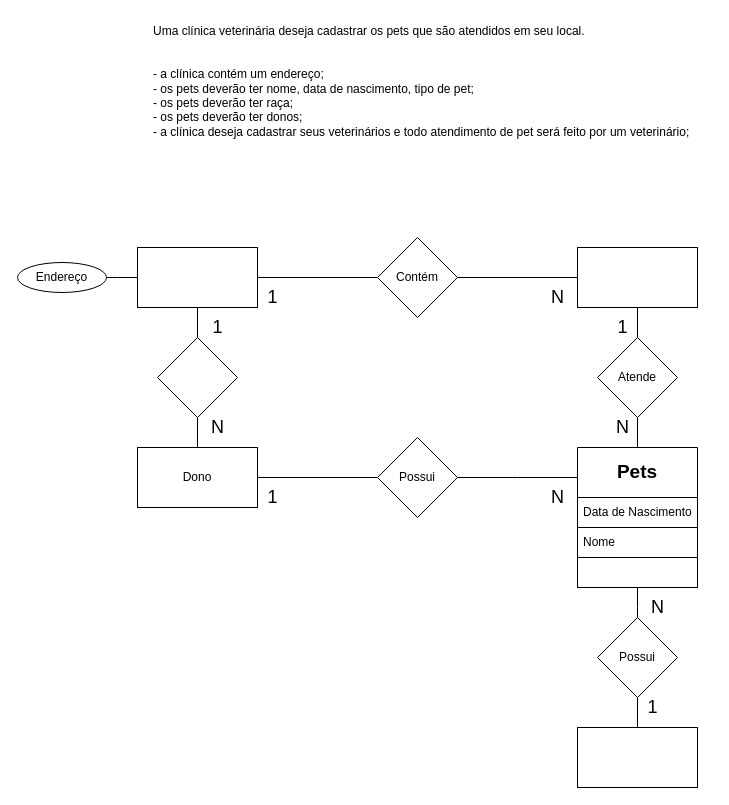
Image size: 729x805. Some labels were removed from this diagram. Here are the shapes that lost their labels. From the top down, the centre of each, then its label:
point (197, 277): Cliníca
point (637, 277): Veterinário
point (197, 377): Contata
point (637, 572): Tipo de pet
point (637, 757): Raça
